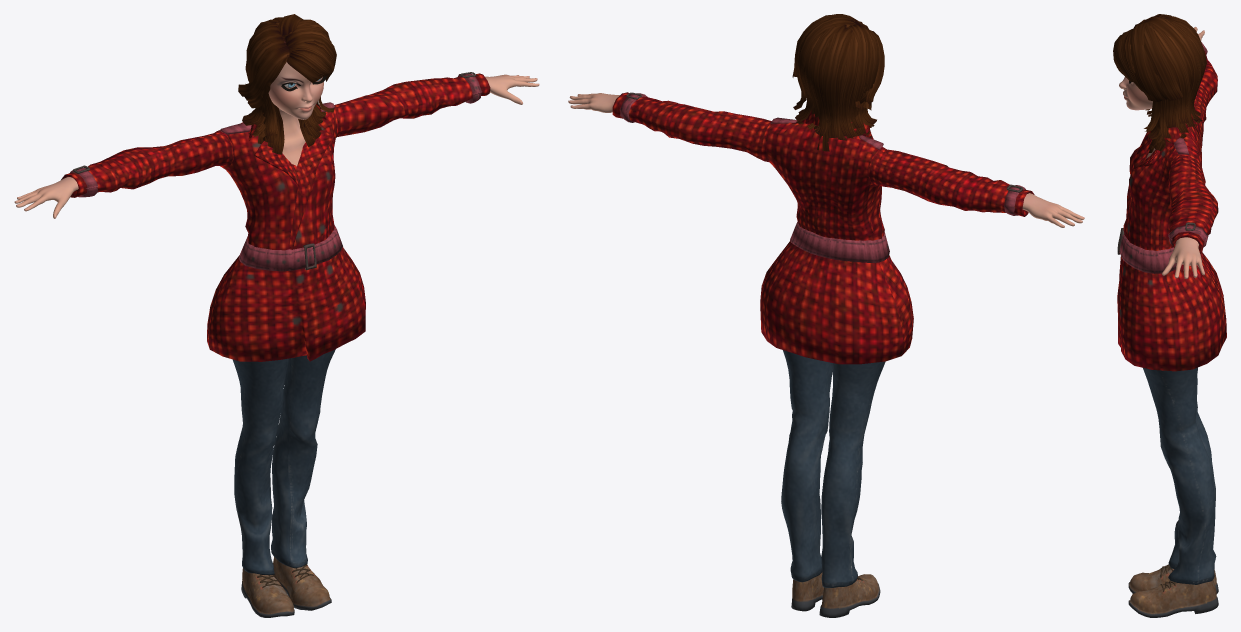
File: norra1.obj
3 renders of one model, left to right at view 1: azimuth 30°, elevation 25°; view 2: azimuth 150°, elevation 25°; view 3: azimuth 270°, elevation 25°, orthographic.
Parts seen in each view (by area): view 1: Tops, Bottoms, Hair, Body, Shoes; view 2: Tops, Bottoms, Hair, Shoes, Body; view 3: Tops, Bottoms, Hair, Shoes, Body.
Boxes of the visible parts, x1,y1,x2,y2 form: Tops: [61, 72, 490, 361]; Bottoms: [232, 349, 335, 574]; Hair: [238, 14, 336, 154]; Body: [14, 41, 539, 218]; Shoes: [241, 557, 331, 617]; Tops: [612, 92, 1034, 364]; Bottoms: [781, 350, 885, 587]; Hair: [792, 14, 884, 151]; Shoes: [791, 572, 880, 617]; Body: [568, 93, 1084, 227]; Tops: [1117, 42, 1226, 371]; Bottoms: [1143, 367, 1216, 584]; Hair: [1113, 14, 1206, 152]; Shoes: [1128, 564, 1218, 617]; Body: [1119, 27, 1204, 278].
Size of the model in its own units: 155 by 168 by 29.63.
Materials: 1 (1 with a texture image).
